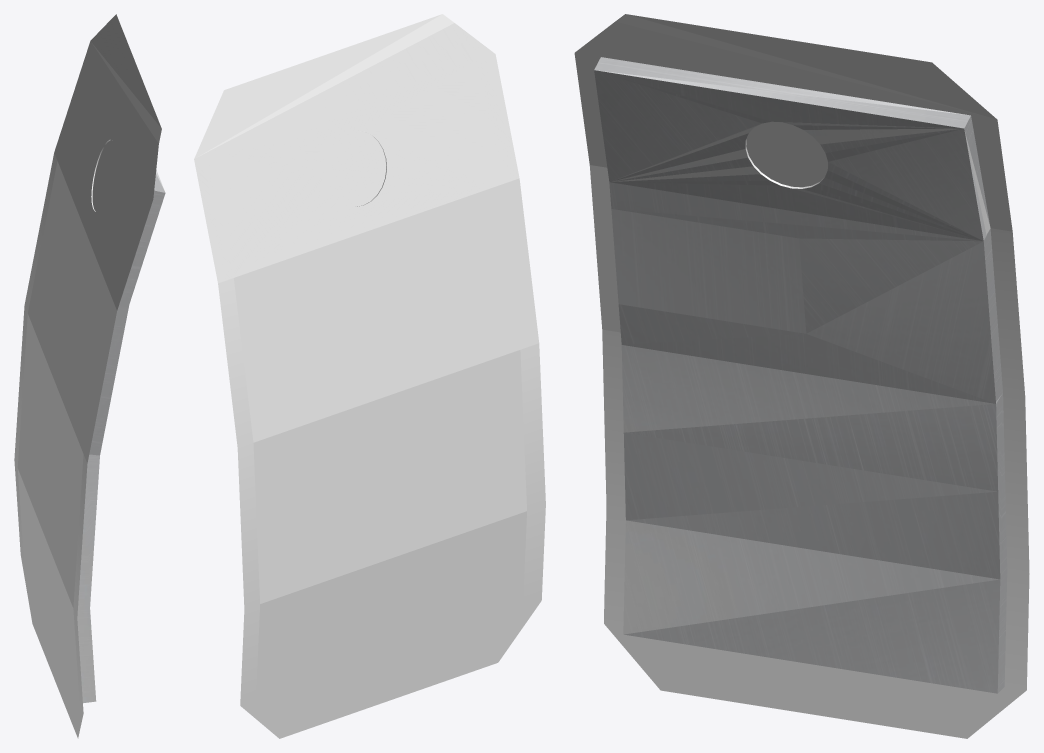
3 renders of one model, left to right at view 1: azimuth 30°, elevation 25°; view 2: azimuth 150°, elevation 25°; view 3: azimuth 270°, elevation 25°, orthographic. The views are drawn at different scales.
Visible parts, largest first — view 1: Layer0_001; view 2: Layer0_001; view 3: Layer0_001.
Boxes of the visible parts, <box> form: Layer0_001: <box>14,14,165,738</box>; Layer0_001: <box>194,14,545,738</box>; Layer0_001: <box>574,14,1029,738</box>.
Bounding box in the file's own units: 0.6089 × 1.91 × 1.1.
Materials: 7 (2 with a texture image).
